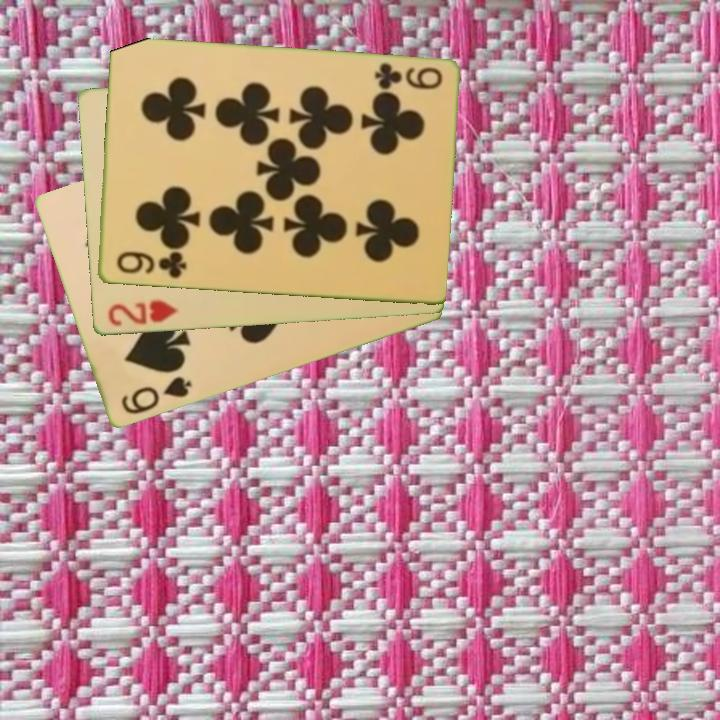2h: (104, 297, 181, 330)
6s: (117, 373, 195, 418)
9c: (112, 248, 189, 282), (370, 60, 445, 93)
